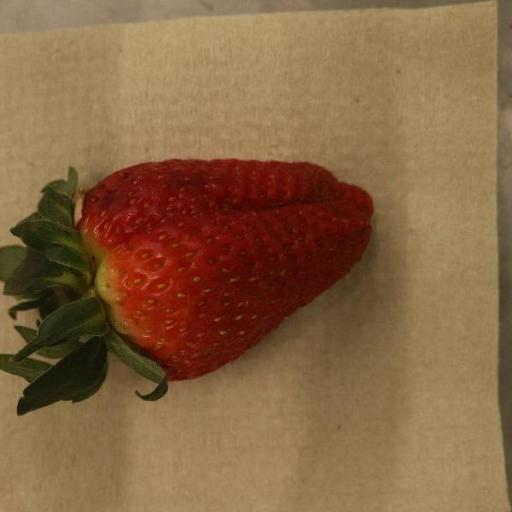Strawberry: (0, 159, 374, 417)
